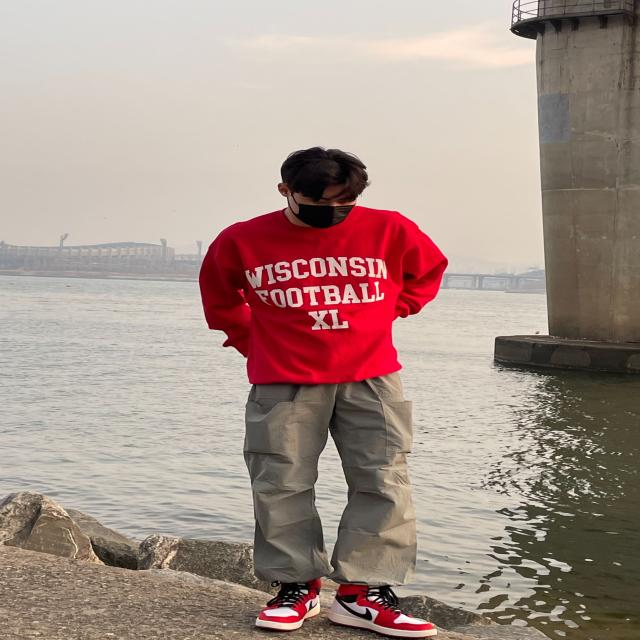cottonpants: (249, 369, 423, 586)
mtm: (197, 206, 445, 387)
